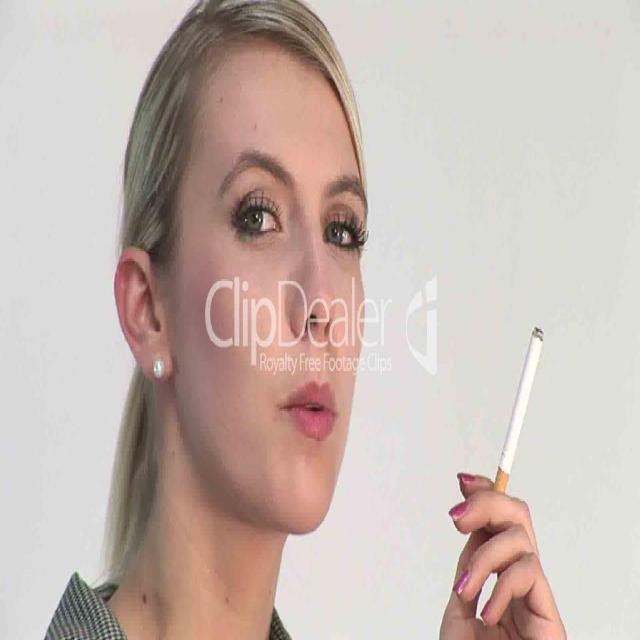smoking: (77, 0, 567, 638)
